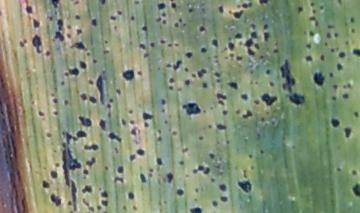tarspot: (62, 132, 81, 185), (279, 60, 294, 91), (97, 74, 105, 104), (32, 33, 43, 54), (182, 102, 201, 114), (71, 181, 78, 213), (237, 179, 252, 193), (262, 93, 278, 105), (77, 115, 92, 127), (313, 71, 325, 86), (290, 94, 305, 105), (50, 192, 61, 207), (122, 69, 134, 80), (86, 157, 97, 168), (71, 42, 86, 50), (109, 133, 122, 142), (343, 127, 352, 140), (173, 60, 183, 71), (227, 80, 238, 90), (233, 9, 244, 19), (54, 32, 65, 41), (198, 68, 207, 79), (246, 47, 257, 56), (331, 117, 340, 128), (82, 184, 93, 193), (98, 119, 106, 131), (83, 144, 99, 150), (165, 171, 173, 183), (214, 124, 227, 131), (353, 184, 360, 197), (69, 66, 79, 75), (143, 112, 153, 121), (49, 169, 58, 179), (242, 110, 253, 118), (139, 173, 147, 184), (190, 206, 202, 213), (79, 59, 87, 69), (218, 183, 228, 191), (175, 188, 185, 196), (115, 166, 125, 174), (33, 18, 40, 29), (76, 131, 87, 138), (89, 95, 97, 104), (79, 92, 87, 101), (240, 93, 249, 101), (245, 38, 253, 47), (99, 190, 108, 198), (82, 198, 90, 207), (26, 4, 33, 14), (57, 19, 63, 30), (242, 167, 248, 178), (52, 1, 60, 9), (216, 99, 224, 107), (251, 32, 259, 40), (305, 55, 313, 63), (336, 63, 344, 71), (127, 192, 135, 200), (157, 3, 166, 10), (211, 38, 218, 47), (136, 148, 145, 155), (337, 51, 346, 58), (353, 48, 360, 57), (217, 93, 227, 99), (298, 5, 304, 15), (114, 177, 124, 183), (76, 28, 83, 36), (184, 51, 192, 58), (129, 153, 136, 161), (156, 157, 163, 165), (235, 32, 243, 39), (341, 93, 349, 100), (112, 147, 120, 154), (42, 180, 49, 188), (258, 1, 269, 6), (199, 24, 205, 33), (229, 42, 235, 51), (319, 53, 325, 62), (102, 198, 108, 207), (264, 31, 269, 41), (74, 13, 81, 20), (170, 2, 177, 9), (264, 68, 271, 75), (253, 98, 260, 105), (308, 30, 315, 37), (351, 169, 358, 176), (289, 143, 296, 150), (116, 87, 122, 95), (220, 196, 228, 202), (212, 200, 218, 208), (92, 18, 97, 27), (63, 70, 69, 77), (38, 111, 45, 117), (136, 70, 143, 76), (142, 52, 149, 58), (200, 47, 207, 53), (201, 82, 207, 89), (168, 77, 175, 83), (121, 119, 127, 126), (129, 118, 135, 125), (157, 135, 163, 142), (222, 110, 229, 116), (204, 167, 210, 174), (249, 164, 255, 171), (255, 43, 261, 50), (250, 23, 256, 30), (269, 81, 275, 88), (306, 43, 312, 50), (309, 15, 316, 21), (309, 1, 316, 7), (326, 32, 332, 39), (82, 169, 89, 175), (88, 206, 95, 212), (270, 121, 277, 127), (102, 49, 110, 54), (132, 1, 140, 6), (161, 98, 166, 106), (181, 147, 189, 152), (19, 41, 25, 47), (88, 79, 94, 85), (219, 5, 223, 14), (178, 17, 184, 23), (191, 73, 197, 79), (184, 80, 190, 86), (143, 122, 149, 128), (128, 108, 134, 114), (131, 129, 137, 135), (209, 153, 215, 159), (46, 132, 52, 138), (235, 109, 241, 115), (242, 3, 248, 9), (273, 48, 279, 54), (315, 19, 319, 28), (327, 24, 336, 28), (336, 166, 342, 172), (211, 177, 217, 183), (148, 172, 154, 178), (46, 50, 51, 57), (67, 23, 72, 30), (92, 58, 97, 65), (110, 15, 117, 20), (116, 10, 123, 15), (187, 8, 194, 13), (174, 21, 179, 28), (139, 44, 146, 49), (150, 41, 155, 48), (159, 39, 166, 44), (214, 72, 221, 77), (179, 160, 186, 165), (197, 165, 204, 170), (236, 56, 243, 61), (351, 27, 356, 34), (329, 72, 334, 79), (354, 111, 359, 118), (72, 1, 80, 5), (67, 32, 72, 38), (86, 51, 91, 57), (53, 98, 59, 103), (53, 111, 59, 116), (104, 39, 109, 45), (130, 15, 135, 21), (142, 26, 147, 32), (162, 19, 167, 25), (113, 25, 118, 31), (184, 66, 189, 72), (157, 129, 163, 134), (208, 123, 213, 129), (199, 135, 204, 141), (248, 153, 253, 159), (259, 149, 264, 155), (261, 116, 266, 122), (312, 9, 317, 15), (319, 5, 325, 10), (337, 1, 343, 6), (332, 83, 337, 89), (332, 95, 337, 101), (249, 79, 254, 85), (194, 188, 200, 193), (132, 205, 138, 210), (104, 165, 110, 170), (97, 205, 102, 211), (67, 200, 72, 206), (99, 1, 106, 5), (168, 86, 175, 90), (351, 17, 355, 24), (255, 79, 259, 86), (60, 81, 65, 86), (50, 92, 55, 97), (156, 17, 161, 22), (109, 98, 114, 103), (107, 104, 112, 109), (73, 136, 78, 141), (172, 130, 177, 135), (164, 120, 169, 125), (202, 109, 207, 114), (193, 169, 198, 174), (216, 78, 221, 83), (227, 36, 232, 41), (236, 4, 241, 9), (248, 2, 253, 7), (330, 47, 335, 52), (345, 40, 350, 45), (249, 70, 254, 75), (123, 205, 128, 210), (49, 15, 53, 21), (64, 100, 68, 106), (167, 43, 173, 47), (223, 46, 227, 52), (238, 40, 242, 46), (264, 23, 268, 29), (259, 55, 265, 59), (324, 41, 328, 47), (343, 83, 347, 89), (274, 40, 278, 46), (194, 196, 198, 202), (55, 163, 61, 167), (348, 82, 351, 89), (175, 42, 179, 47), (167, 63, 171, 68), (161, 109, 166, 113), (177, 87, 182, 91), (226, 139, 230, 144), (214, 55, 219, 59), (230, 53, 235, 57), (149, 168, 154, 172), (162, 13, 166, 17), (225, 56, 229, 60), (228, 10, 232, 14), (164, 200, 168, 204), (335, 34, 338, 38)
